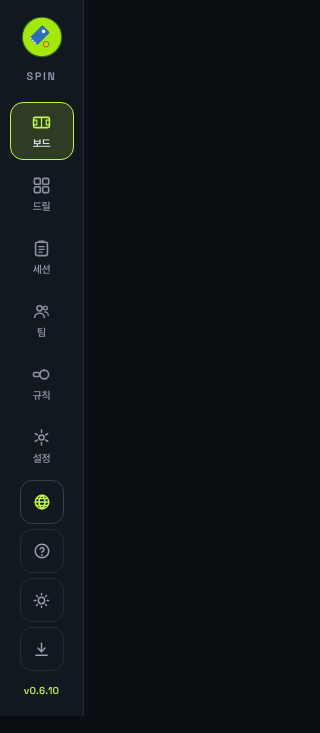
AppRail › 테마 토글이 prefs.theme 을 반전시키고 localStorage 에 남긴다
This screenshot has width=320, height=733.
Click the button named "라이트 테마로 전환" at coordinates (42, 600), box [20, 578, 64, 622]
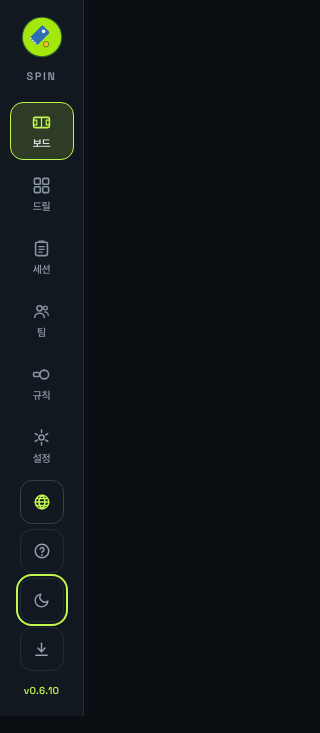
expect the button named "다크 테마로 전환" is shown: met, box [20, 578, 64, 622]
